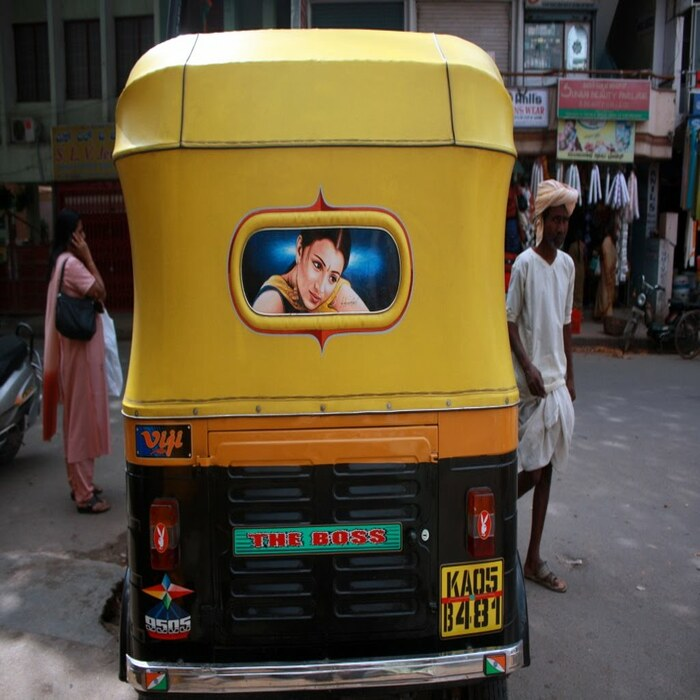n: (435, 564, 510, 634)
